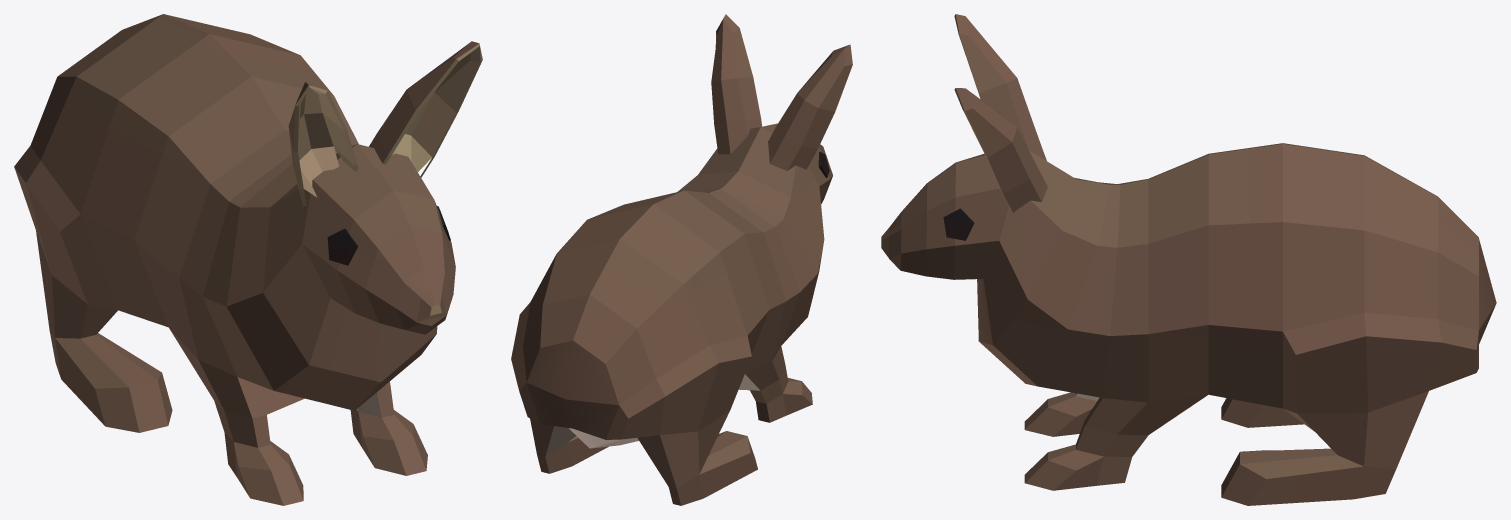
File: 9OBTRVYUSmt.glb
The picture shows the model from 3 angles, left to right: view 1: azimuth 30°, elevation 25°; view 2: azimuth 150°, elevation 25°; view 3: azimuth 270°, elevation 25°; orthographic projection. The views are drawn at different scales.
Visible parts, largest first — view 1: Geo_Rabbit; view 2: Geo_Rabbit; view 3: Geo_Rabbit.
Boxes of the visible parts, x1,y1,x2,y2 form: Geo_Rabbit: (14, 14, 482, 505); Geo_Rabbit: (511, 14, 852, 505); Geo_Rabbit: (881, 14, 1496, 505).
Bounding box in the file's own units: 0.6572 × 1 × 1.39.
1 material, 1 textured.
